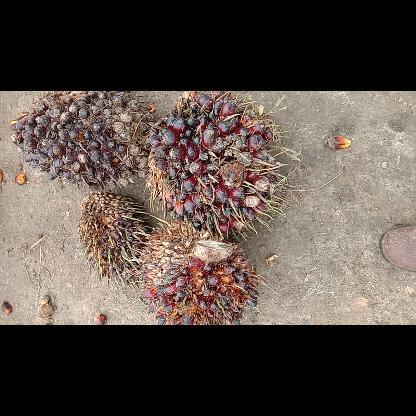Kurang masak: (151, 91, 283, 237), (12, 91, 148, 187)
TBS abnormal: (79, 188, 155, 282)
TBS masak: (140, 222, 260, 324)
